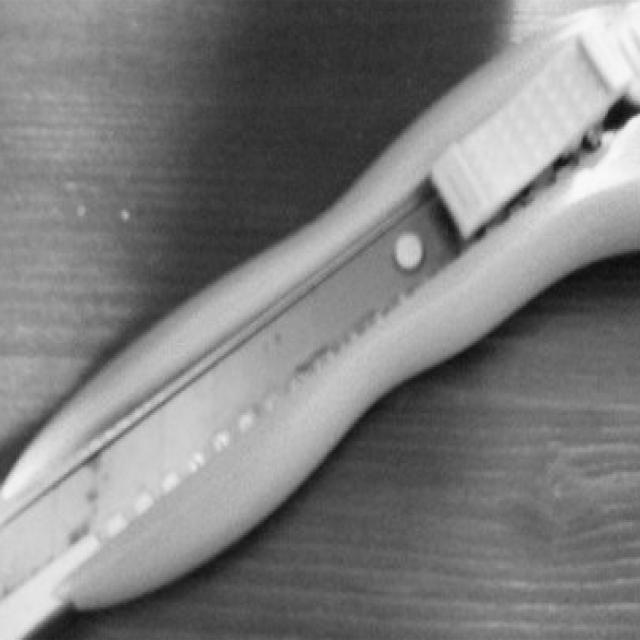estilete: (0, 2, 640, 640)
